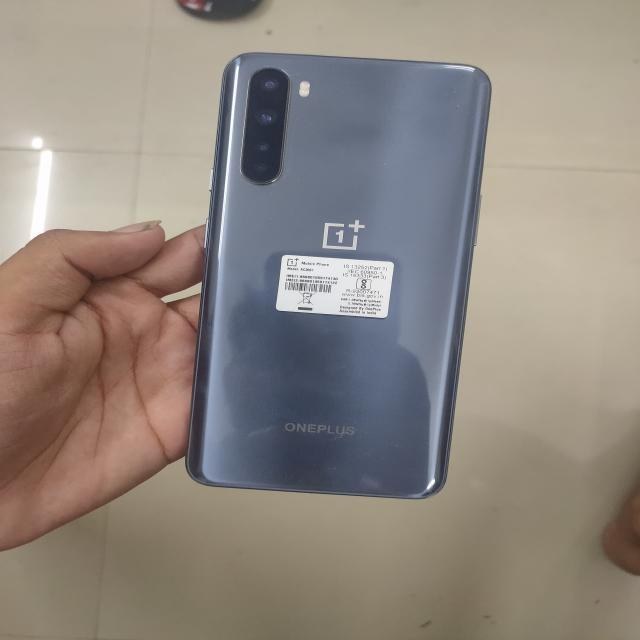Phone: (185, 52, 491, 500)
